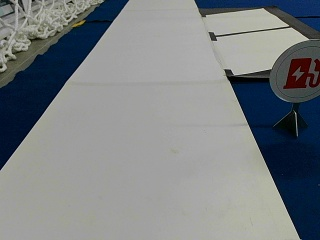battery: (270, 39, 319, 103)
